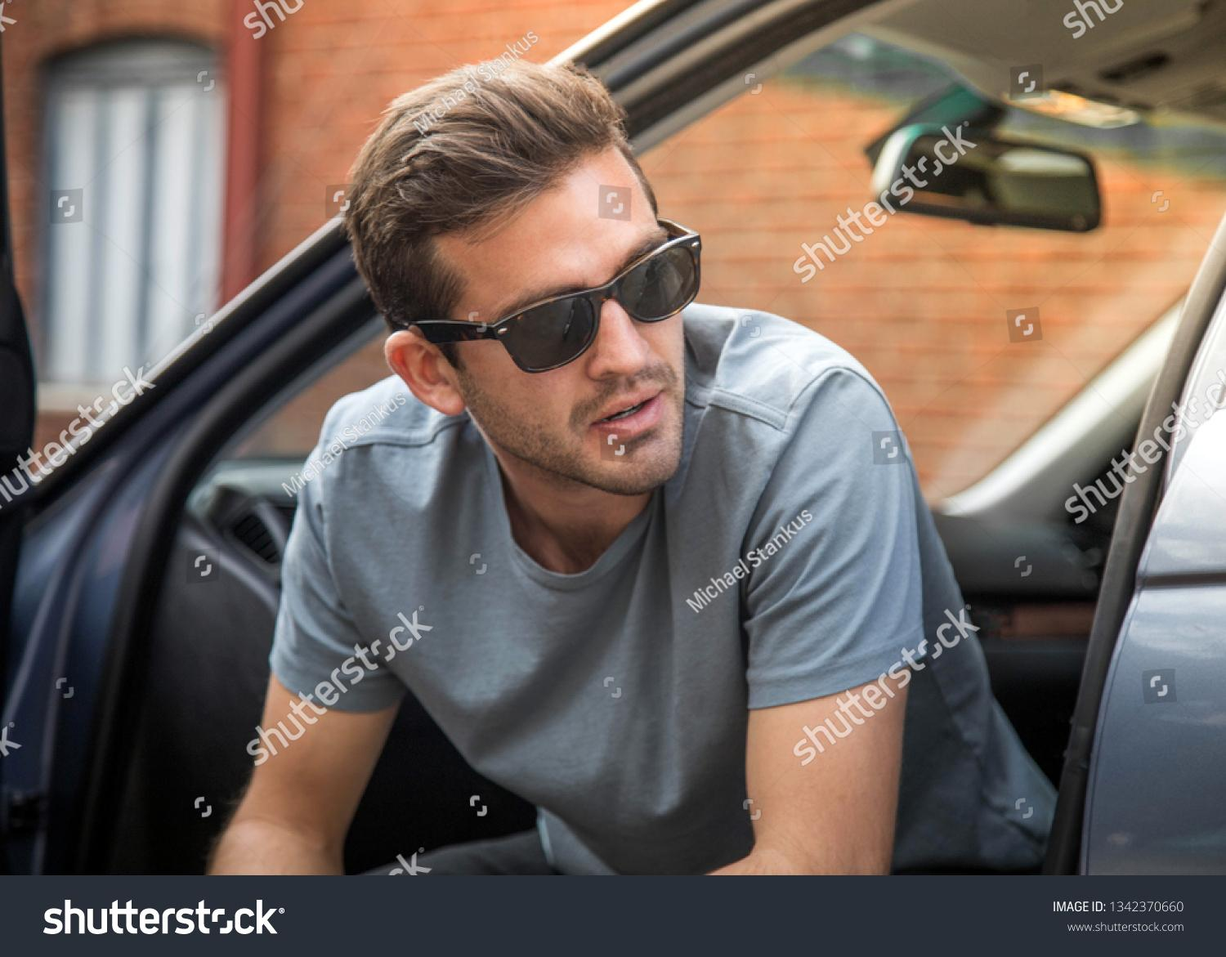sunglasses: (441, 204, 738, 382)
